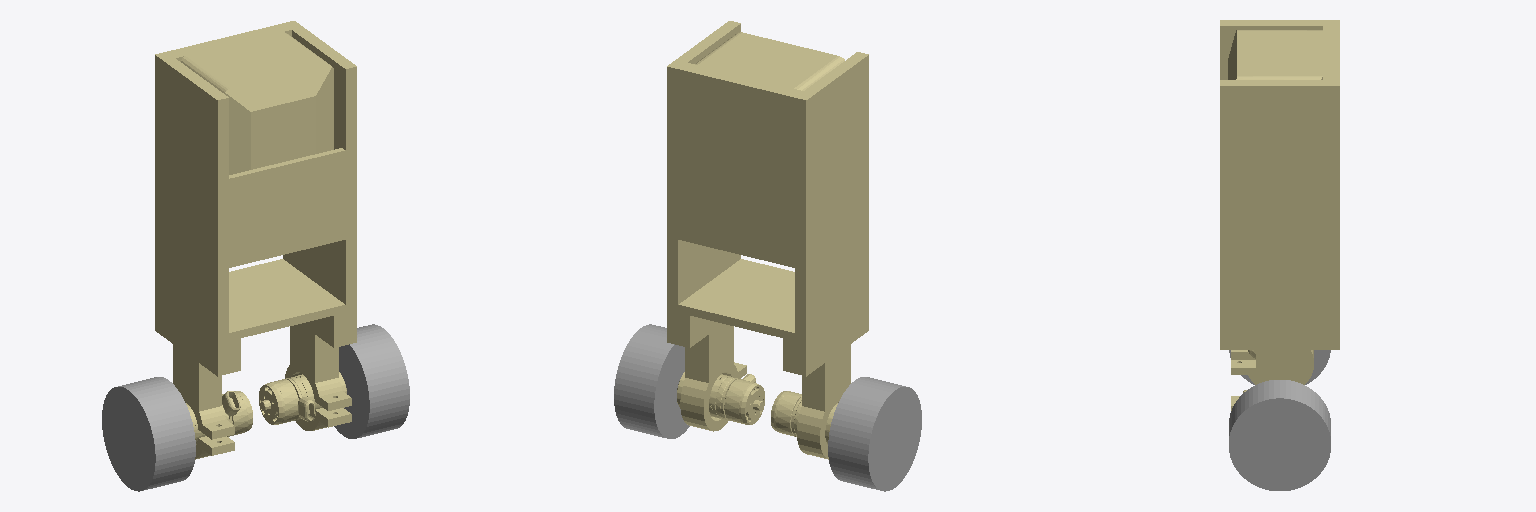
The robot description file, URDF, robot "twip":
<robot name="twip">
    <link name="body">
        <visual>
            <origin xyz="0 0 0" rpy="0 -0 0" />
            <geometry>
                <mesh filename="meshes/twip.stl" />
            </geometry>
            <material name="body_material">
                <color rgba="0.836159 0.803167 0.618468 1.0" />
            </material>
        </visual>
        <collision>
            <origin xyz="0 0 0" rpy="0 -0 0" />
            <geometry>
                <mesh filename="meshes/twip.stl" />
            </geometry>
            <material name="body_material">
                <color rgba="0.5 0.5 0.5 1.0" />
            </material>
        </collision>
        <inertial>
            <origin xyz="0.0 0.00045 0.0958" rpy="0 0 0" />
            <mass value="1.245" />
            <inertia ixx="0.007054245" ixy="0.000000529" ixz="0.000001120" iyy="0.007891076" iyz="-0.000015829" izz="0.001480266" />
        </inertial>
    </link>

    <link name="left_wheel">
        <visual>
            <origin xyz="0 0 0" rpy="0 -0 0" />
            <geometry>
                <mesh filename="meshes/wheel.stl" />
            </geometry>
            <material name="left_wheel_material">
                <color rgba="0.701961 0.701961 0.701961 1.0" />
            </material>
        </visual>
        <collision>
            <origin xyz="0 0 0" rpy="0 -0 0" />
            <geometry>
                <mesh filename="meshes/wheel.stl" />
            </geometry>
            <material name="left_wheel_material">
                <color rgba="0.5 0.5 0.5 1.0" />
            </material>
        </collision>
        <inertial>
            <origin xyz="0 0 0" rpy="0 0 0" />
            <mass value="0.042" />
            <inertia ixx="0.000011812" ixy="0.0" ixz="0.0" iyy="0.000011812" iyz="0.0" izz="0.000018908" />
        </inertial>
    </link>

    <joint name="lwheel" type="revolute">
        <origin xyz="0.069 0.0 0.0" rpy="-3.14159 1.5708 0" />
        <parent link="body" />
        <child link="left_wheel" />
        <axis xyz="0 0 1" />
        <limit effort="1" velocity="20" />
        <dynamics friction="0.0" damping="600." />
    </joint>

    <link name="right_wheel">
        <visual>
            <origin xyz="0 0 0" rpy="0 -0 0" />
            <geometry>
                <mesh filename="meshes/wheel.stl" />
            </geometry>
            <material name="right_wheel_material">
                <color rgba="0.701961 0.701961 0.701961 1.0" />
            </material>
        </visual>
        <collision>
            <origin xyz="0 0 0" rpy="0 -0 0" />
            <geometry>
                <mesh filename="meshes/wheel.stl" />
            </geometry>
            <material name="right_wheel_material">
                <color rgba="0.5 0.5 0.5 1.0" />
            </material>
        </collision>
        <inertial>
            <origin xyz="0 0 0" rpy="0 0 0" />
            <mass value="0.042" />
            <inertia ixx="0.000011812" ixy="0.0" ixz="0.0" iyy="0.000011812" iyz="0.0" izz="0.000018908" />
        </inertial>
    </link>

    <joint name="rwheel" type="revolute">
        <origin xyz="-0.069 0.0 0.0" rpy="1.66533e-16 1.5708 0" />
        <parent link="body" />
        <child link="right_wheel" />
        <axis xyz="0 0 -1" />
        <limit effort="1" velocity="20" />
        <dynamics friction="0.0" damping="600." />
    </joint>


</robot>

--- What the picture shows (computed from the rendered views, not written in the file) ---
3 views of the same robot in one strip: view 1: azimuth 30°, elevation 25°; view 2: azimuth 150°, elevation 25°; view 3: azimuth 270°, elevation 25° (orthographic).
Robot: twip — 3 links, 2 joints (2 revolute); root link body; default pose: every joint at zero.
Links seen in each view (by area): view 1: body, right_wheel, left_wheel; view 2: body, right_wheel, left_wheel; view 3: body, left_wheel.
Boxes of the visible links, x1,y1,x2,y2 form: body: [155, 21, 356, 459]; right_wheel: [102, 377, 195, 491]; left_wheel: [334, 324, 409, 438]; body: [667, 21, 868, 459]; right_wheel: [828, 377, 921, 491]; left_wheel: [614, 324, 689, 438]; body: [1220, 20, 1339, 410]; left_wheel: [1229, 380, 1330, 490].
Bounding box of the posed robot: 0.164 × 0.07 × 0.244 m (x, y, z).
3 mesh visuals loaded from 2 distinct referenced files (2 binary STL).
